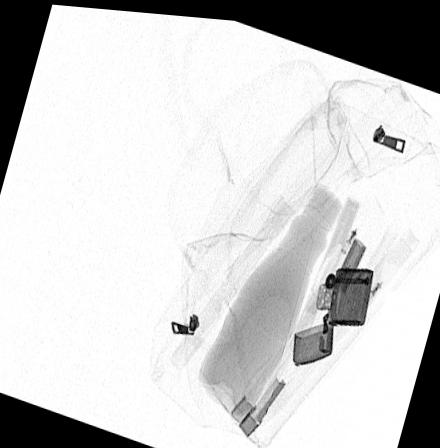Lighter: (292, 261, 373, 360)
